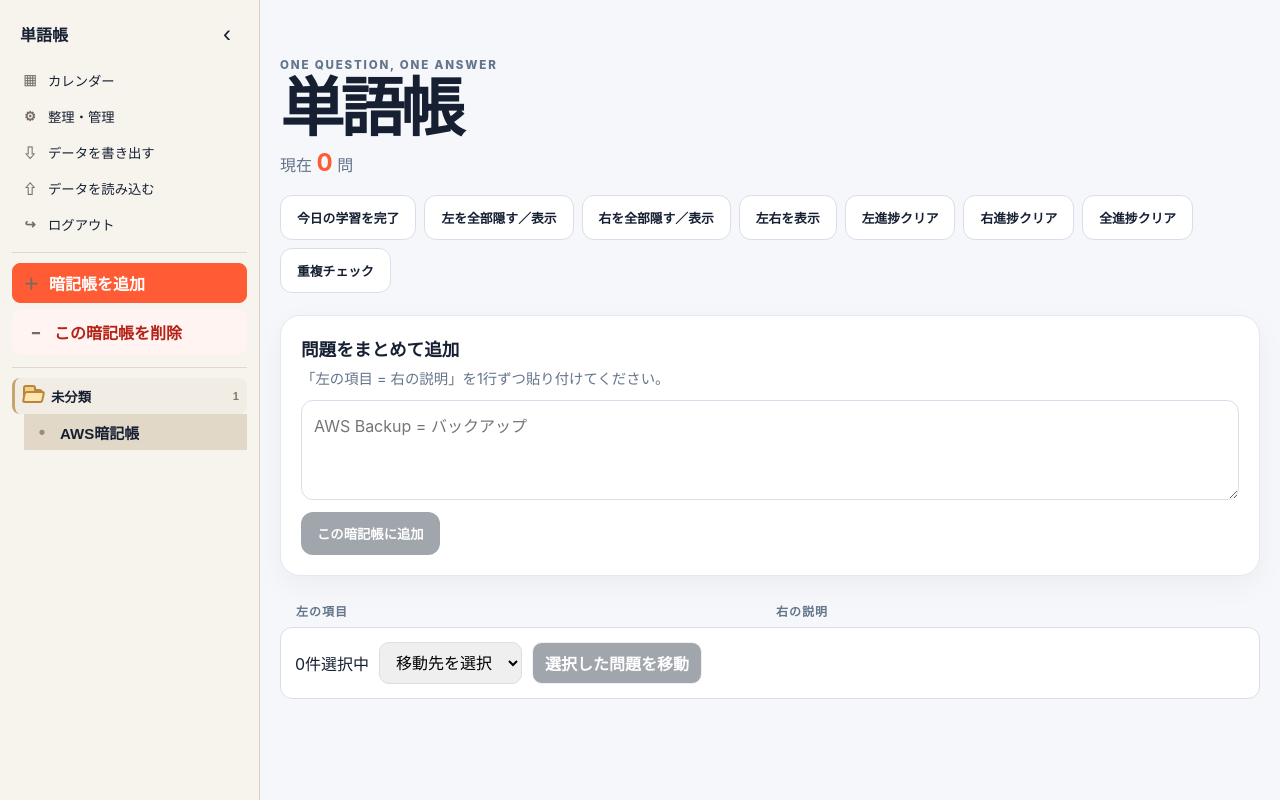
Test: App organization navigation › does not offer active-deck deletion while managing folders
The width and height of the screenshot is (1280, 800).
Click the button "⚙ 整理・管理": (130, 116) [12, 98, 247, 134]
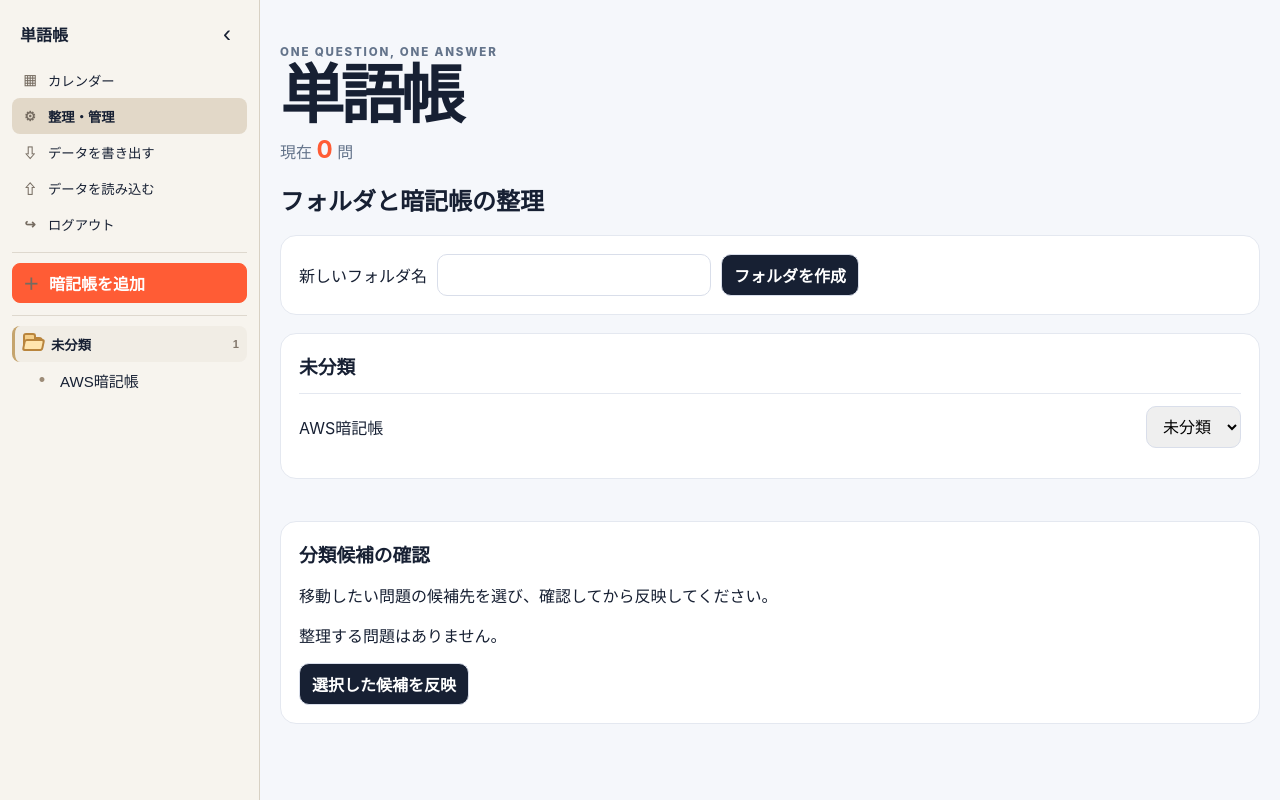
Now the button "この暗記帳を削除" is gone
